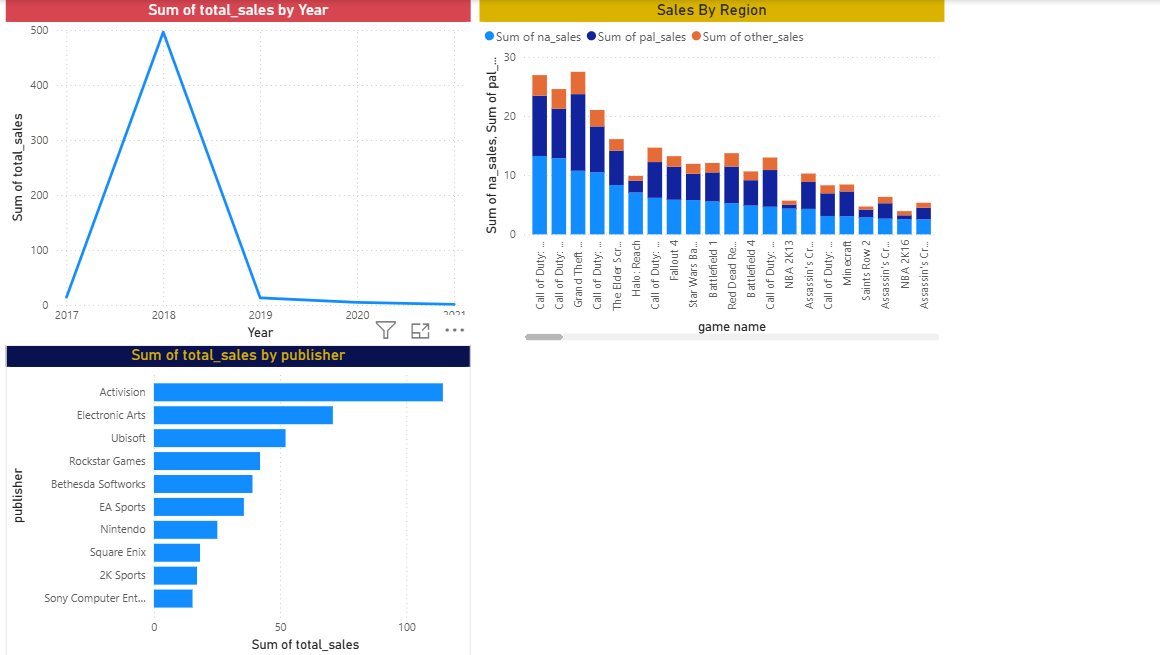

What the dashboard file says about the page in this screenshot:
{"tool":"powerbi","page":{"name":"Page 2","canvas":[1280,720],"ordinal":1},"visuals":[{"type":"lineChart","fields":{"Category":["Video Games Sales (1980-2024) -.last_update.Variation.Date Hierarchy.Year"],"Y":["Sum(Video Games Sales (1980-2024) -.total_sales)"]},"box":[9.6,0,510.5,378.7],"z":0},{"type":"clusteredBarChart","fields":{"Category":["Video Games Sales (1980-2024) -.publisher"],"Y":["Sum(Video Games Sales (1980-2024) -.total_sales)"]},"box":[9.6,378.7,510.5,341.7],"z":1},{"type":"columnChart","title":"Sales By Region","fields":{"Category":["Video Games Sales (1980-2024) -.game name"],"Y":["Sum(Video Games Sales (1980-2024) -.na_sales)","Sum(Video Games Sales (1980-2024) -.pal_sales)","Sum(Video Games Sales (1980-2024) -.other_sales)"]},"box":[530,0,510,379],"z":2}]}

Visuals, with their boxes in screenshot pixels (x1, y1, x2, y2), scaled from the page's 1280x720 canvas onto the 1160x655 screenshot:
lineChart - Video Games Sales (1980-2024) -.last_update.Variation.Date Hierarchy.Year x Sum(Video Games Sales (1980-2024) -.total_sales): rect(9, 0, 471, 345)
clusteredBarChart - Video Games Sales (1980-2024) -.publisher x Sum(Video Games Sales (1980-2024) -.total_sales): rect(9, 345, 471, 654)
"Sales By Region" columnChart: rect(480, 0, 942, 345)
